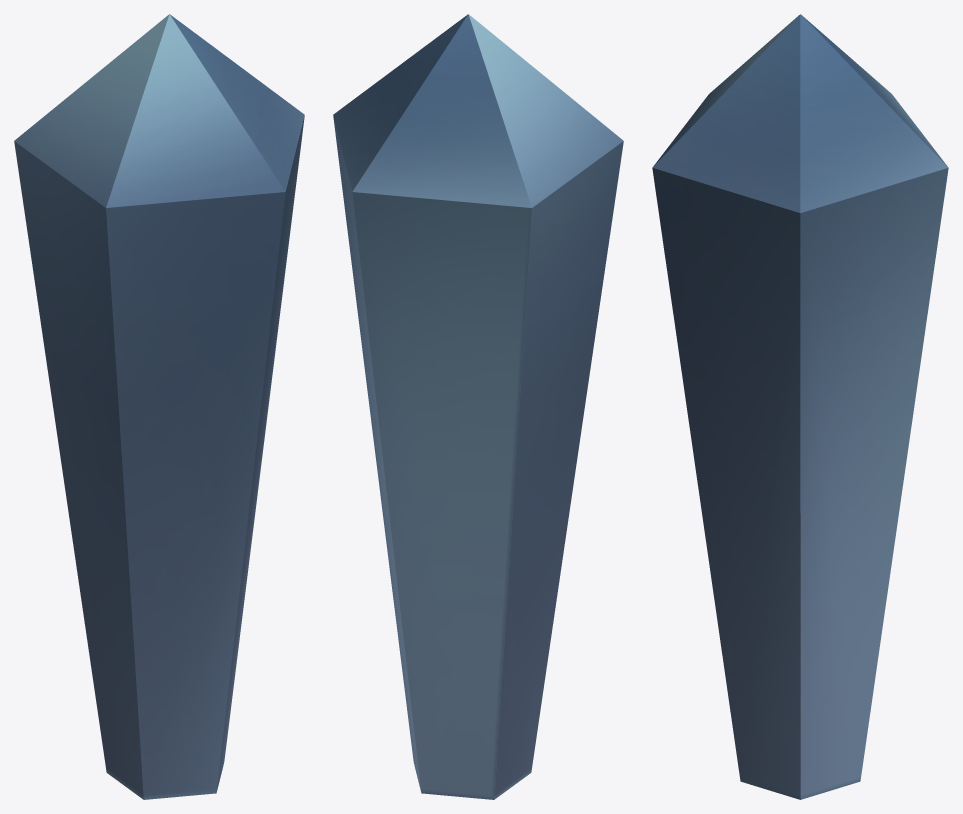
File: crystal01.FBX
3 views of the same model, side by side, from view 1: azimuth 30°, elevation 25°; view 2: azimuth 150°, elevation 25°; view 3: azimuth 270°, elevation 25° (orthographic).
Visible parts, largest first — view 1: Cylinder001; view 2: Cylinder001; view 3: Cylinder001.
Part boxes in pixels (box(x1,y1,x2,y2)): Cylinder001: box(14, 14, 304, 799); Cylinder001: box(333, 14, 623, 799); Cylinder001: box(652, 14, 948, 799).
Bounding box in the file's own units: 11.3 × 33.6 × 11.89.
